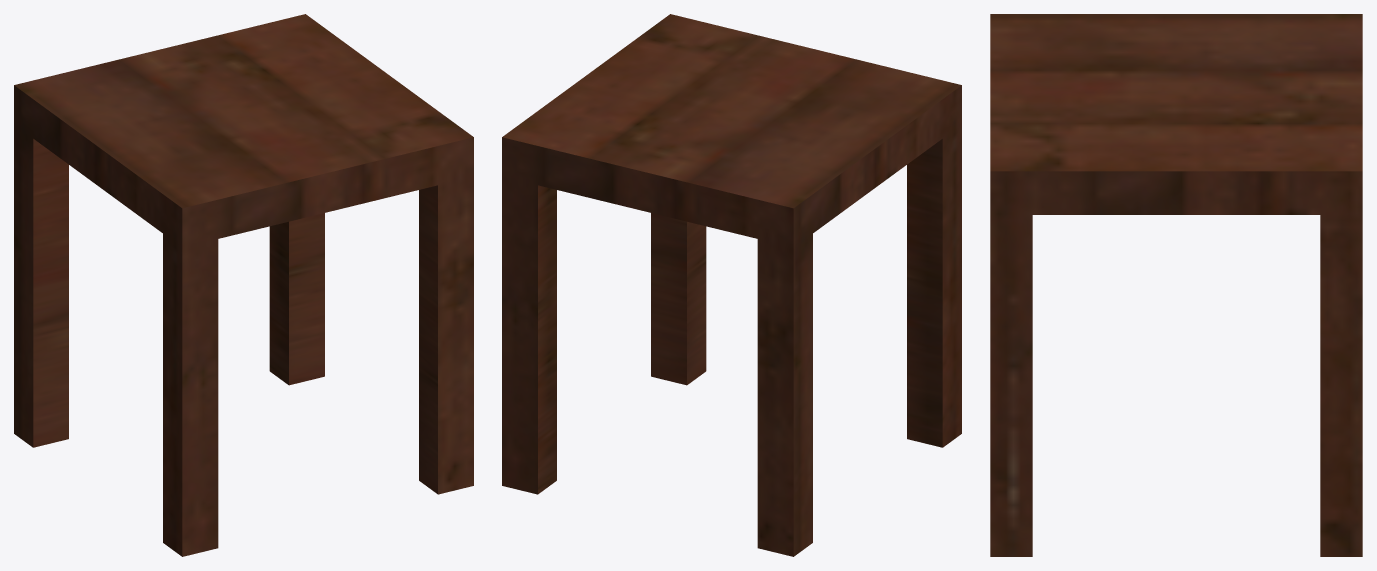
File: siter.fbx
The picture shows the model from 3 angles, left to right: view 1: azimuth 30°, elevation 25°; view 2: azimuth 150°, elevation 25°; view 3: azimuth 270°, elevation 25°; orthographic projection. The views are drawn at different scales.
Parts seen in each view (by area): view 1: Cube; view 2: Cube; view 3: Cube.
Boxes of the visible parts, left/top/right/bottom form: Cube: left=14, top=14, right=473, bottom=556; Cube: left=502, top=14, right=961, bottom=556; Cube: left=990, top=14, right=1362, bottom=556.
Bounding box in the file's own units: 200 × 228 × 200.
